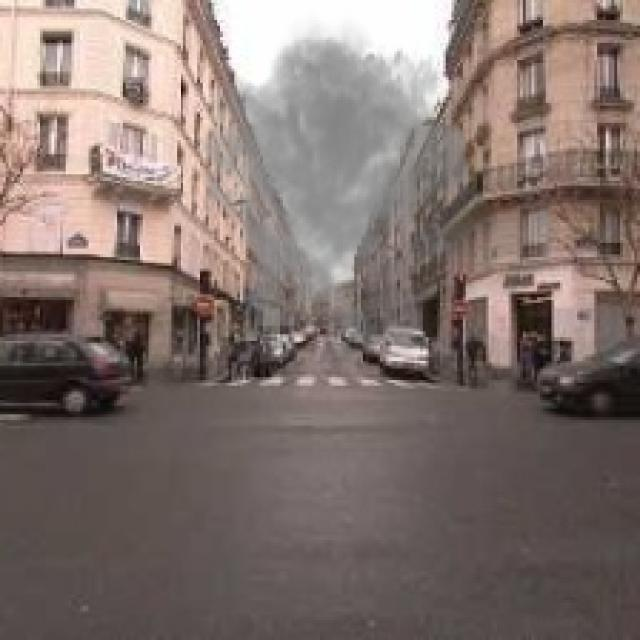smoke: (192, 11, 568, 368)
